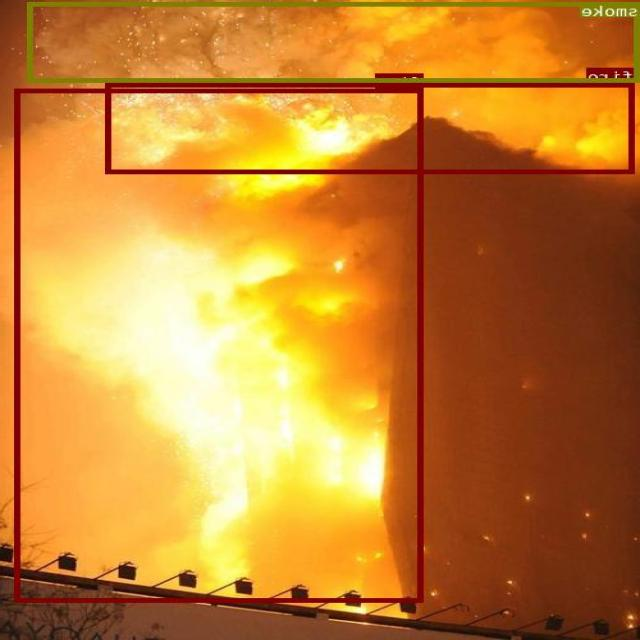fire: (16, 88, 424, 602), (107, 82, 635, 173)
smoke: (29, 1, 640, 81)
